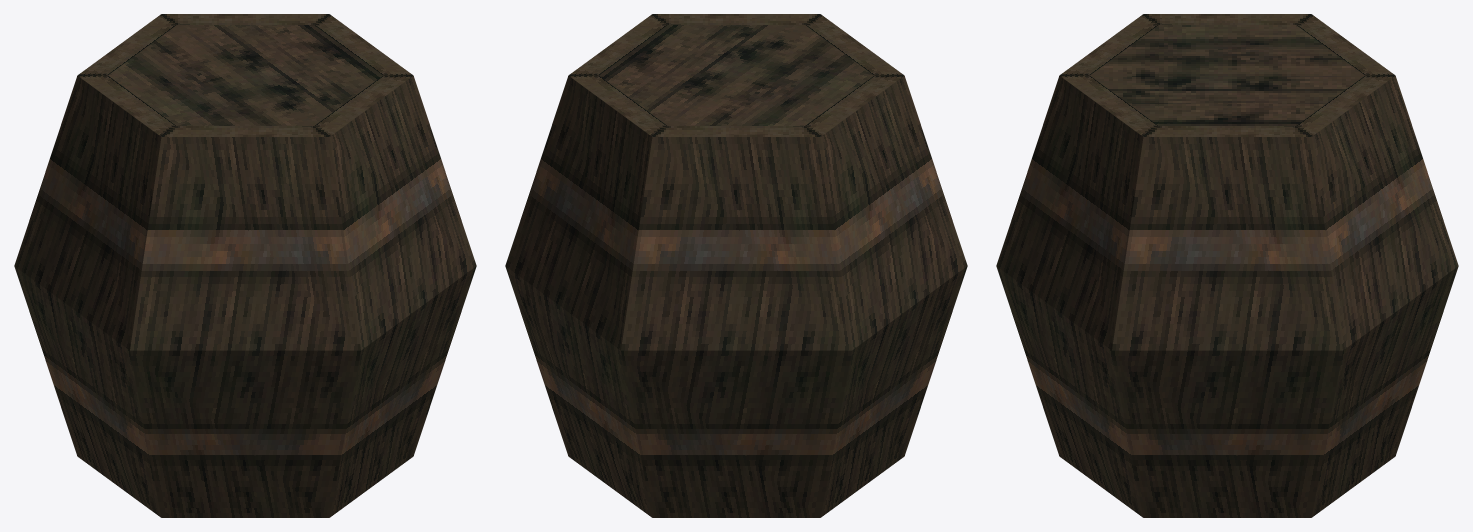
The model's file is barrel.glb.
The picture shows the model from 3 angles, left to right: view 1: azimuth 30°, elevation 25°; view 2: azimuth 150°, elevation 25°; view 3: azimuth 270°, elevation 25°; orthographic projection.
Visible parts, largest first — view 1: Cylinder.021; view 2: Cylinder.021; view 3: Cylinder.021.
Part boxes in pixels (left/top/right/bottom): Cylinder.021: left=14, top=14, right=476, bottom=517; Cylinder.021: left=505, top=14, right=967, bottom=517; Cylinder.021: left=996, top=14, right=1458, bottom=517.
Bounding box in the file's own units: 1.52 × 1.6 × 1.76.
Materials: 1 (1 with a texture image).
